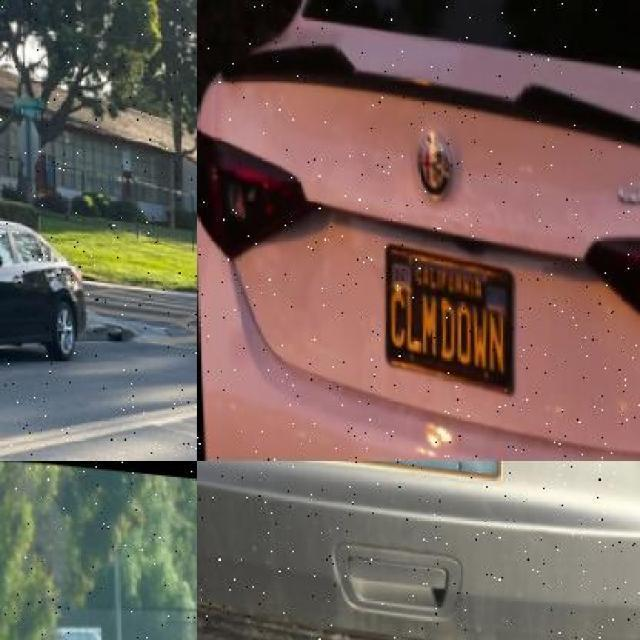LicensePlate: (376, 232, 516, 386)
